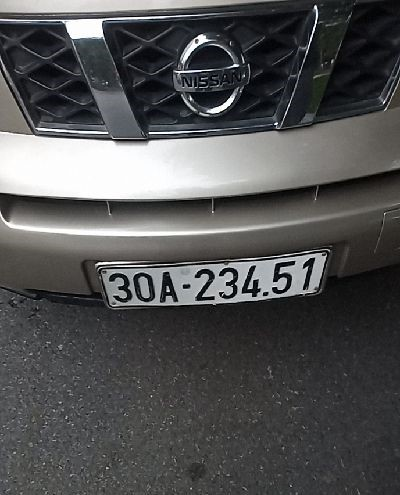number_plate: (70, 247, 354, 324)
